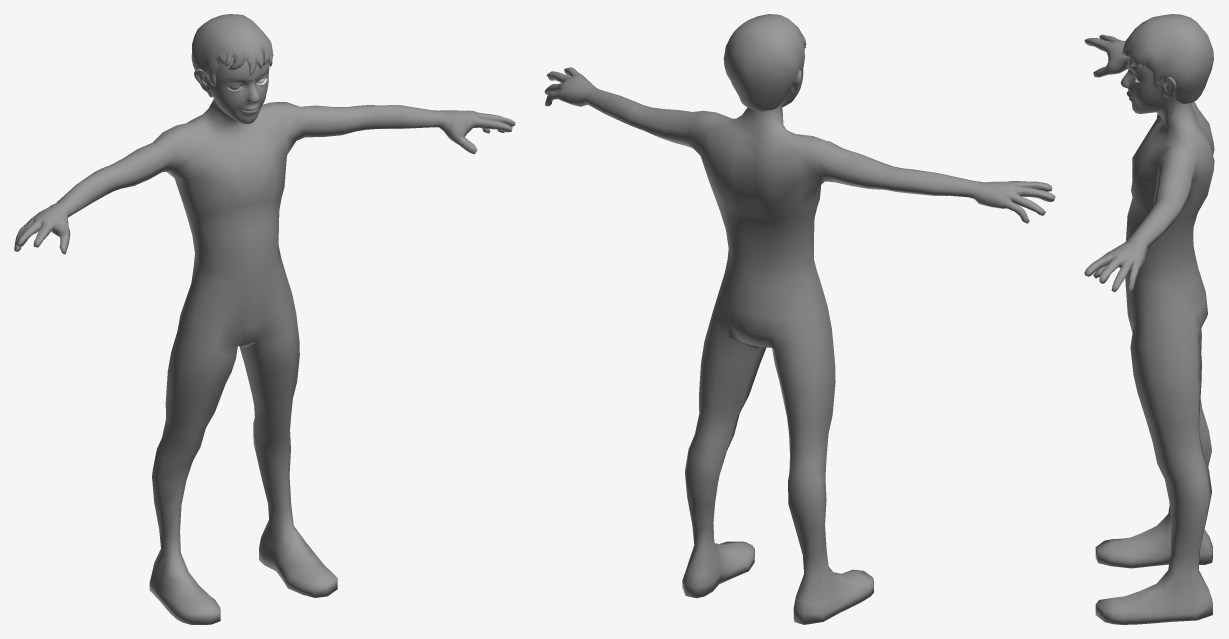
The model's file is Man relax.FBX.
3 views of the same model, side by side, from view 1: azimuth 30°, elevation 25°; view 2: azimuth 150°, elevation 25°; view 3: azimuth 270°, elevation 25° (orthographic).
Visible parts, largest first — view 1: mesh_id61; view 2: mesh_id61; view 3: mesh_id61.
Part boxes in pixels (x1,y1,x2,y2): mesh_id61: (14,14,515,624); mesh_id61: (544,14,1055,624); mesh_id61: (1084,14,1214,624).
Bounding box in the file's own units: 232 × 251 × 52.06.
Materials: 1 (1 with a texture image).
